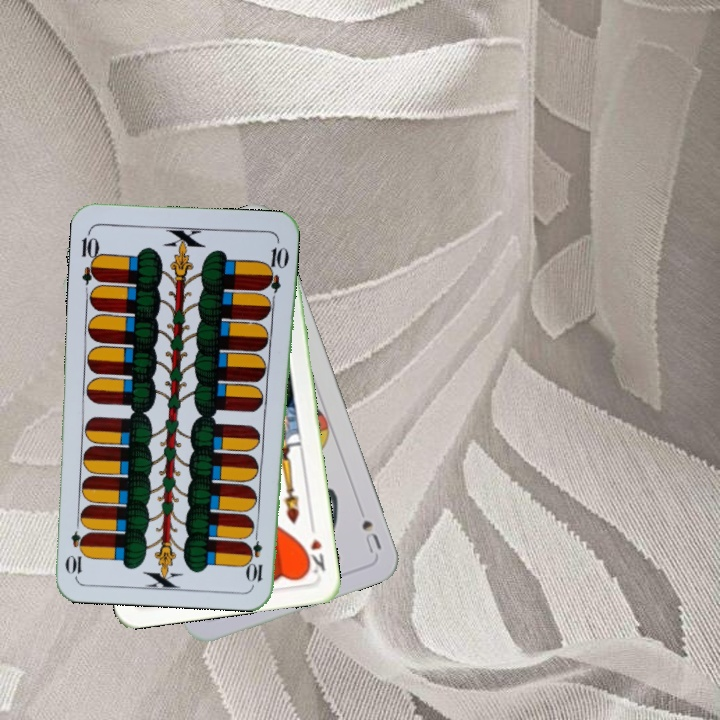E10: (77, 227, 103, 286), (246, 525, 265, 585)
HK: (300, 518, 328, 576)
SU: (357, 515, 384, 557)
